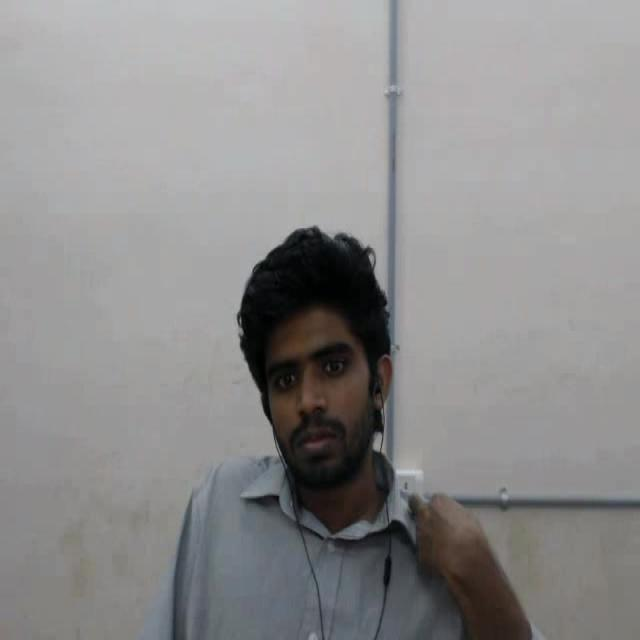Engaged: (215, 197, 405, 490)
